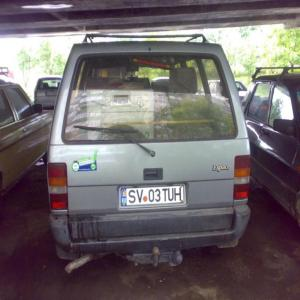Vehicle-registration-plate: (113, 184, 196, 222)
